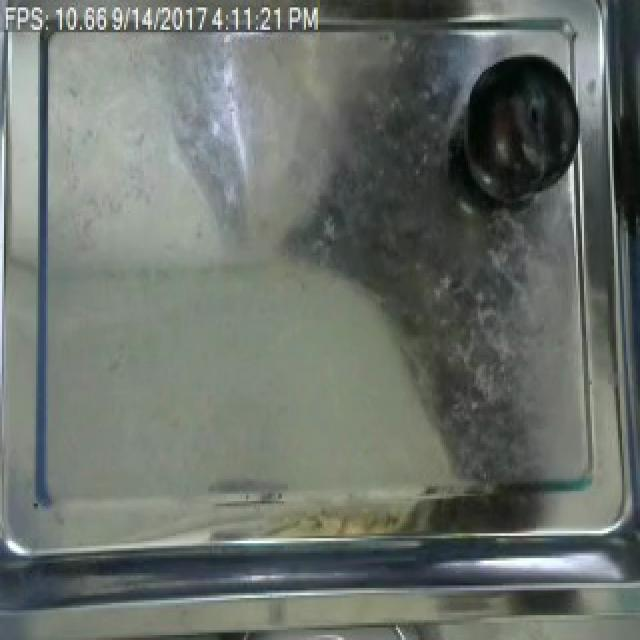Fruit: (452, 45, 584, 206)
